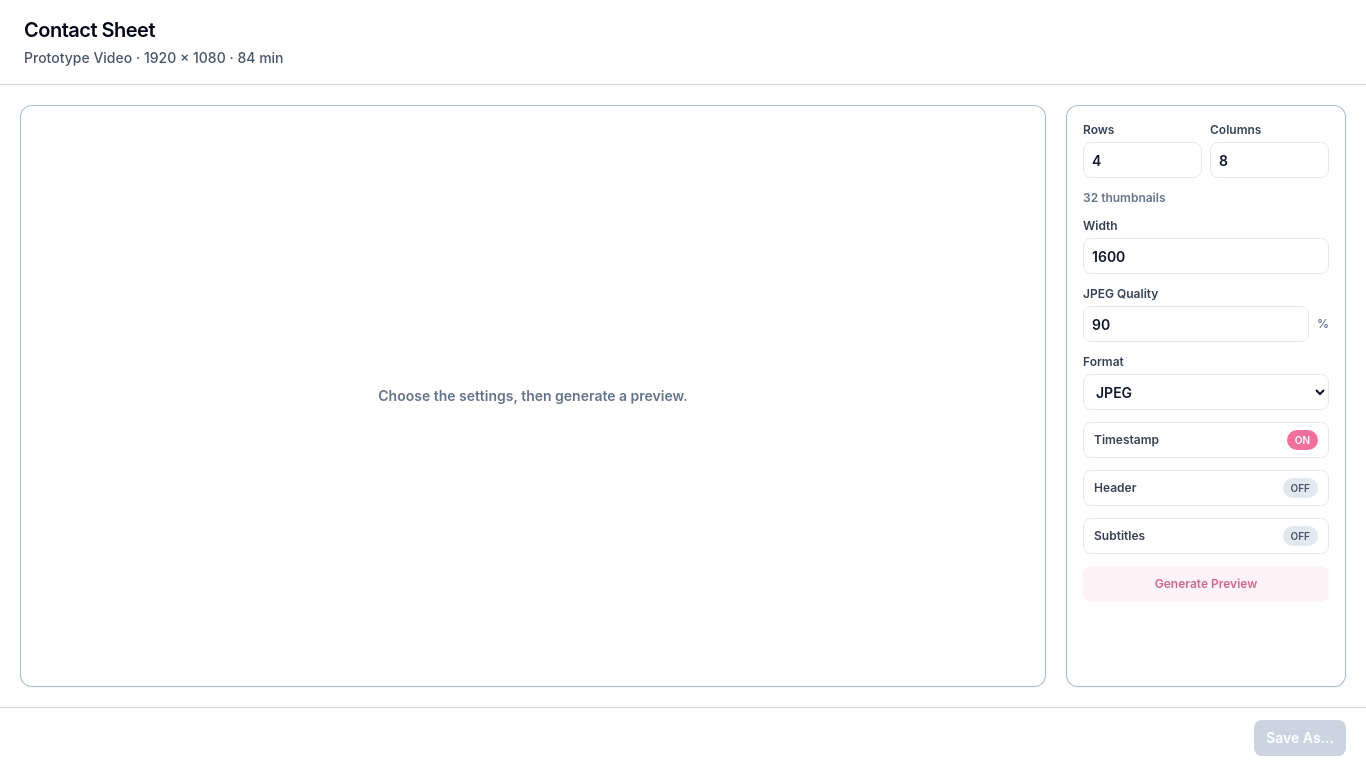
Test: ContactSheetWindow › keeps invalid manual grid input visible and blocks generation
Step 1. Replace the text in the number field labelled "Rows" with "9" → (1142, 160), box [1083, 142, 1202, 178]
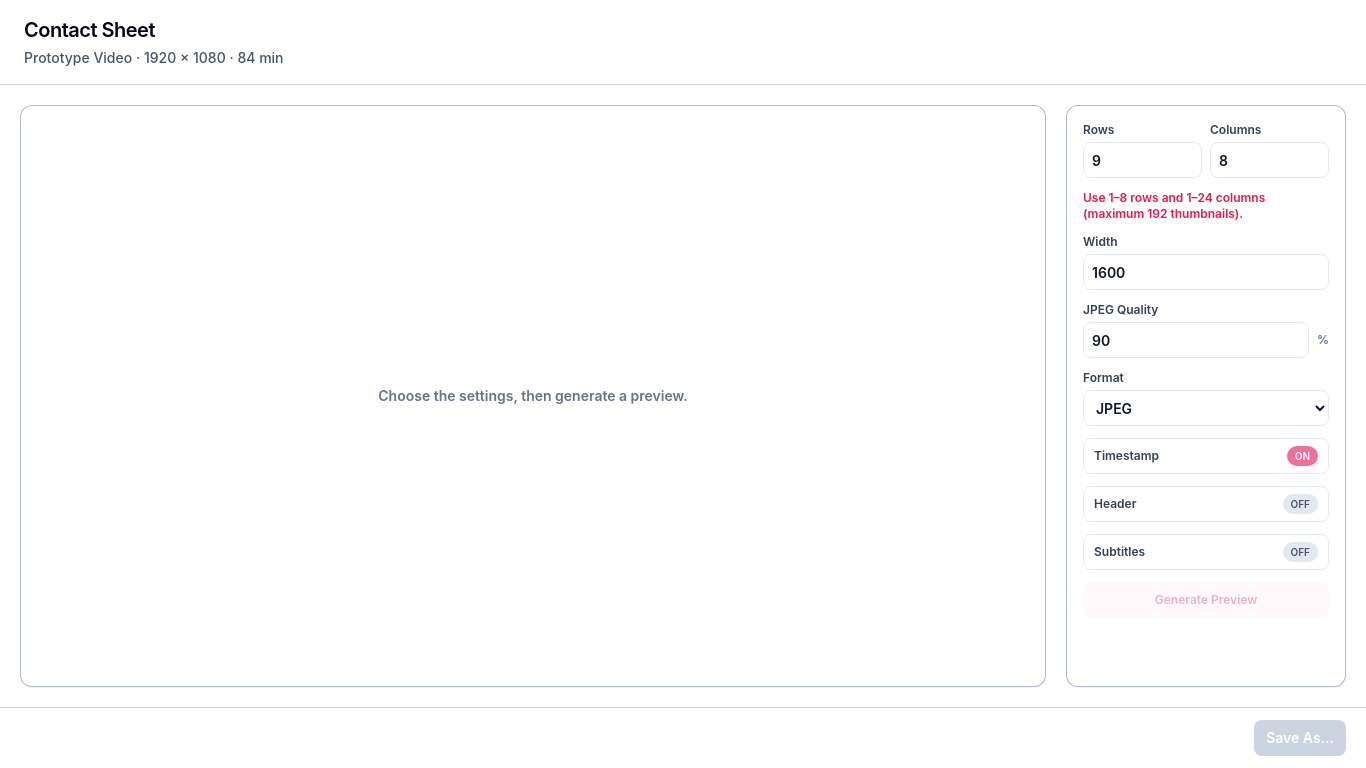
Now the text with test id "contact-sheet-total" shows "maximum 192", box [1083, 190, 1265, 221]
Now the button "Generate Preview" is disabled, box [1083, 582, 1329, 618]
